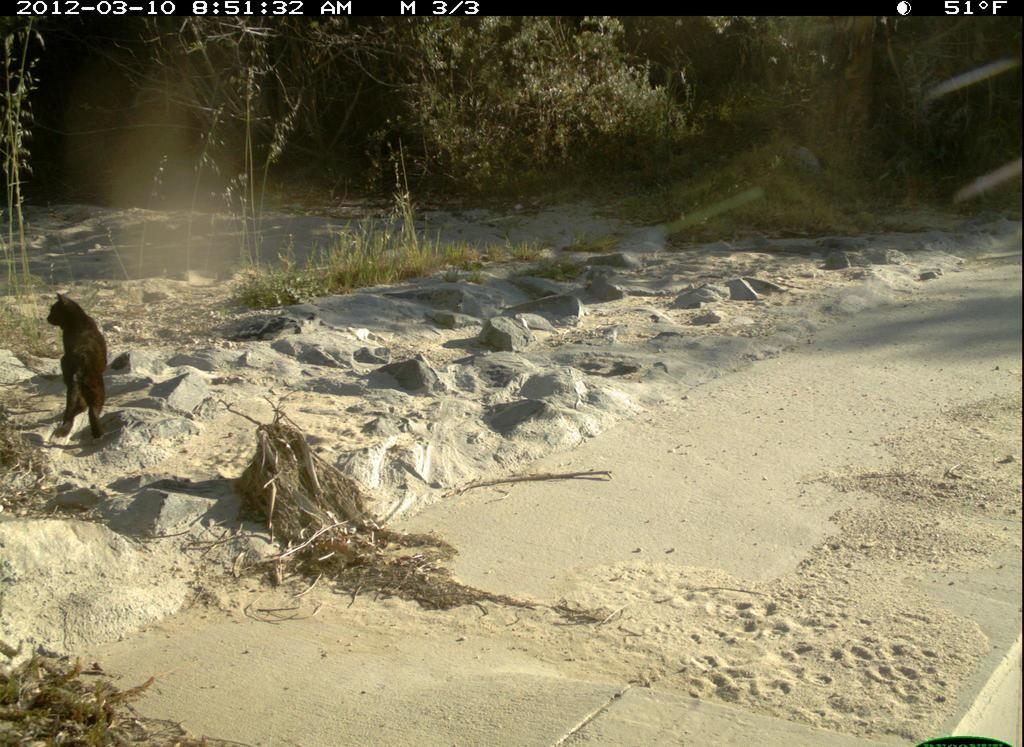cat: (41, 291, 120, 455)
